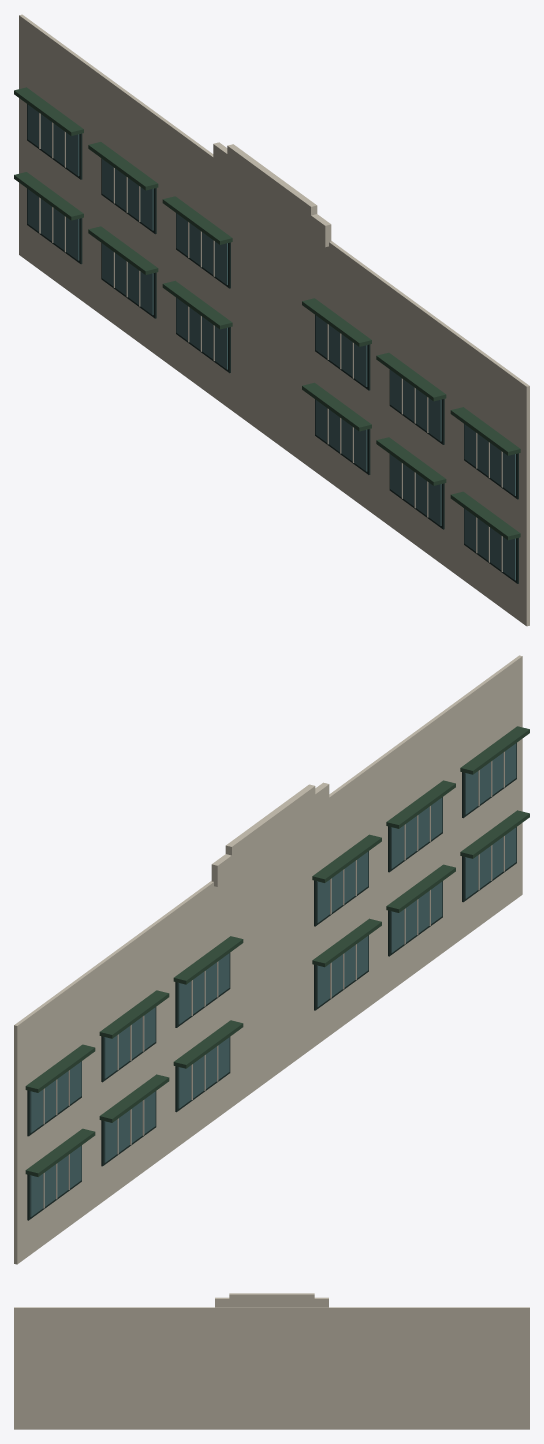
The model's file is agate-west-provisional-2026-11-04.glb.
3 views of the same model, one above another, from view 1: azimuth 30°, elevation 25°; view 2: azimuth 150°, elevation 25°; view 3: azimuth 270°, elevation 25° (orthographic). The views are drawn at different scales.
Parts seen in each view (by area): view 1: exterior-detail-building; view 2: exterior-detail-building; view 3: exterior-detail-building.
Part boxes in pixels (x1,y1,x2,y2): exterior-detail-building: (14, 14, 529, 626); exterior-detail-building: (14, 655, 529, 1264); exterior-detail-building: (14, 1293, 529, 1429).
Bounding box in the file's own units: 0.8 × 12.4 × 43.
